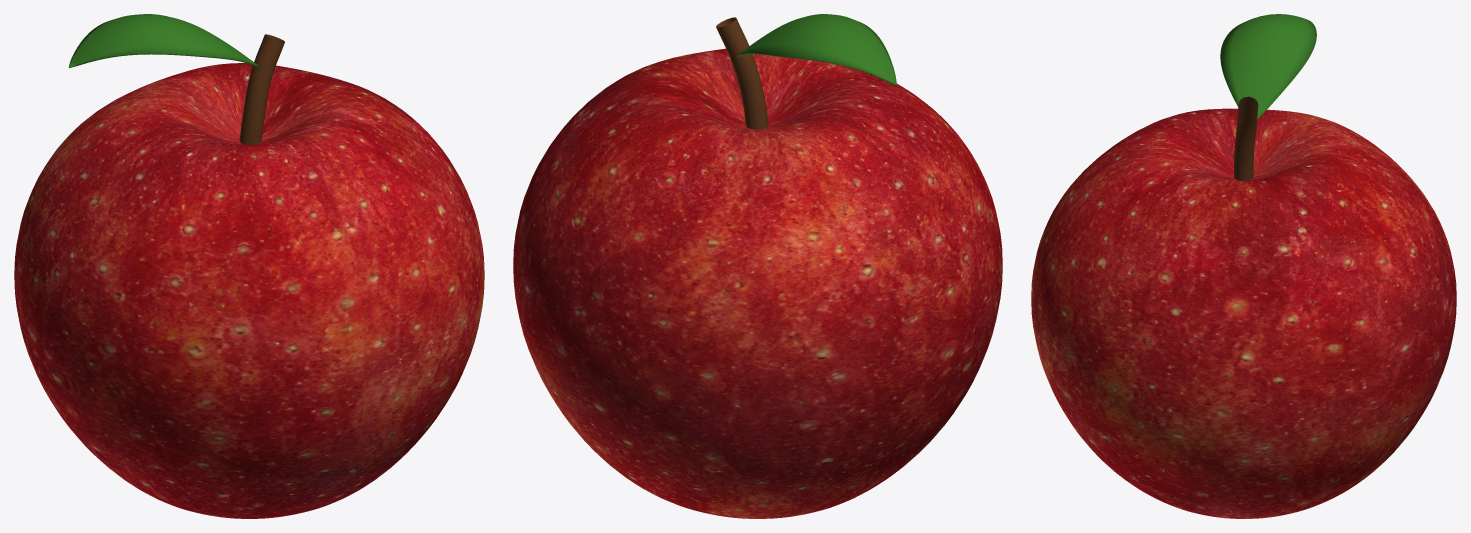
Rendered from apple.glb.
3 renders of one model, left to right at view 1: azimuth 30°, elevation 25°; view 2: azimuth 150°, elevation 25°; view 3: azimuth 270°, elevation 25°, orthographic. The views are drawn at different scales.
Visible parts, largest first — view 1: APPLE | sculpted body, LEAF | curved blade, STEM | gently curved; view 2: APPLE | sculpted body, LEAF | curved blade, STEM | gently curved; view 3: APPLE | sculpted body, LEAF | curved blade, STEM | gently curved.
Part boxes in pixels (left/top/right/bottom): APPLE | sculpted body: left=14, top=63, right=484, bottom=518; LEAF | curved blade: left=68, top=14, right=258, bottom=67; STEM | gently curved: left=239, top=34, right=284, bottom=144; APPLE | sculpted body: left=513, top=48, right=1002, bottom=518; LEAF | curved blade: left=737, top=14, right=896, bottom=85; STEM | gently curved: left=716, top=17, right=768, bottom=129; APPLE | sculpted body: left=1031, top=108, right=1456, bottom=518; LEAF | curved blade: left=1220, top=14, right=1316, bottom=119; STEM | gently curved: left=1234, top=96, right=1258, bottom=180.
Bounding box in the file's own units: 2.33 × 2.6 × 2.33.
3 materials, 1 textured.
